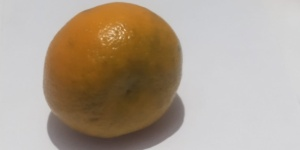BAD: (34, 1, 188, 142)
